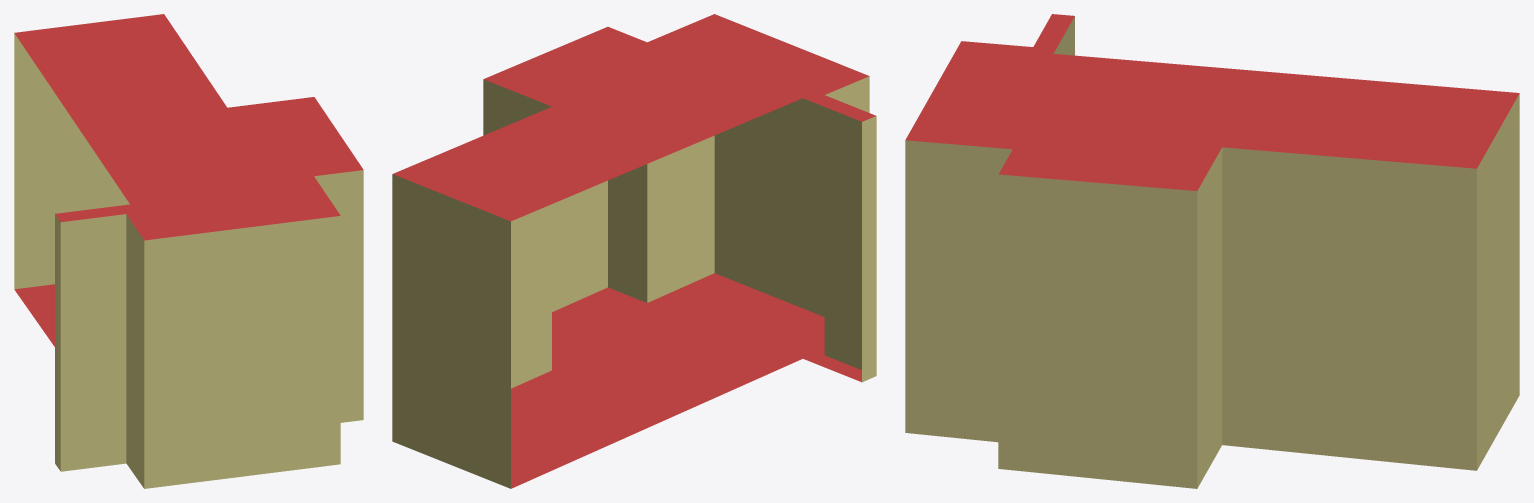
3 renders of one model, left to right at view 1: azimuth 30°, elevation 25°; view 2: azimuth 150°, elevation 25°; view 3: azimuth 270°, elevation 25°, orthographic. The views are drawn at different scales.
Size of the model in its own units: 9.09 by 13.03 by 7.07.
